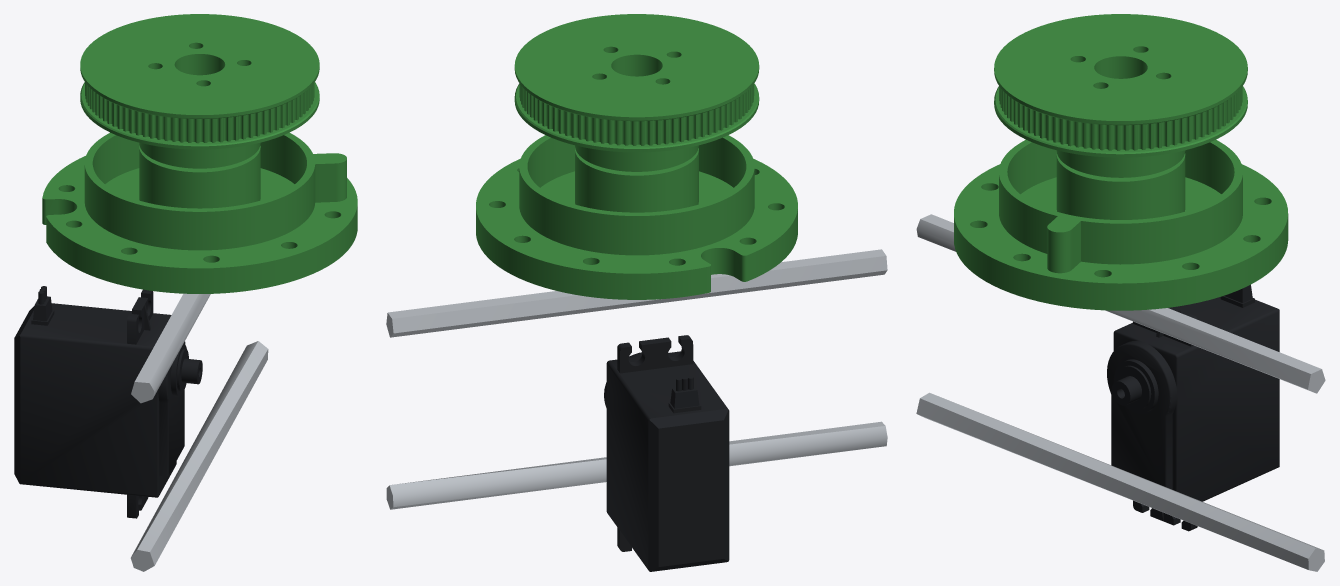
Rendered from wrist_link.glb.
3 views of the same model, side by side, from view 1: azimuth 30°, elevation 25°; view 2: azimuth 150°, elevation 25°; view 3: azimuth 270°, elevation 25° (orthographic). The views are drawn at different scales.
Visible parts, largest first — view 1: wrist_link_printed, wrist_link_motor, wrist_link_metal; view 2: wrist_link_printed, wrist_link_motor, wrist_link_metal; view 3: wrist_link_printed, wrist_link_motor, wrist_link_metal.
Part boxes in pixels (bbox=[...]): wrist_link_printed: bbox=[42, 14, 357, 293]; wrist_link_motor: bbox=[14, 286, 202, 518]; wrist_link_metal: bbox=[130, 293, 268, 571]; wrist_link_printed: bbox=[476, 14, 797, 299]; wrist_link_motor: bbox=[604, 335, 729, 571]; wrist_link_metal: bbox=[386, 249, 887, 509]; wrist_link_printed: bbox=[954, 14, 1288, 310]; wrist_link_motor: bbox=[1107, 284, 1279, 531]; wrist_link_metal: bbox=[916, 214, 1325, 571].
Bounding box in the file's own units: 0.0898 × 0.1214 × 0.0955.
